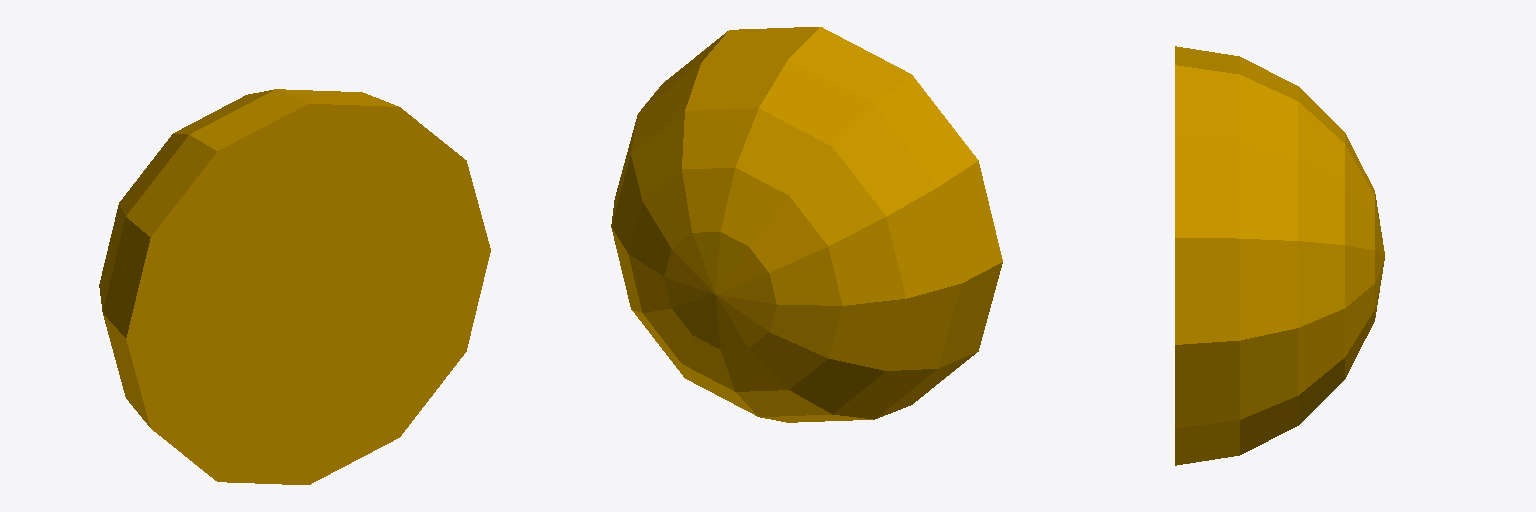
Rendered from yellow_light.obj.
The picture shows the model from 3 angles: view 1: azimuth 30°, elevation 25°; view 2: azimuth 150°, elevation 25°; view 3: azimuth 270°, elevation 25°; orthographic projection.
Parts seen in each view (by area): view 1: Esfera.002_Esfera.001; view 2: Esfera.002_Esfera.001; view 3: Esfera.002_Esfera.001.
Part boxes in pixels (bbox=[...]): Esfera.002_Esfera.001: bbox=[99, 89, 490, 484]; Esfera.002_Esfera.001: bbox=[611, 27, 1002, 422]; Esfera.002_Esfera.001: bbox=[1175, 46, 1384, 465].
Size of the model in its own units: 0.9253 by 0.9253 by 0.4627.